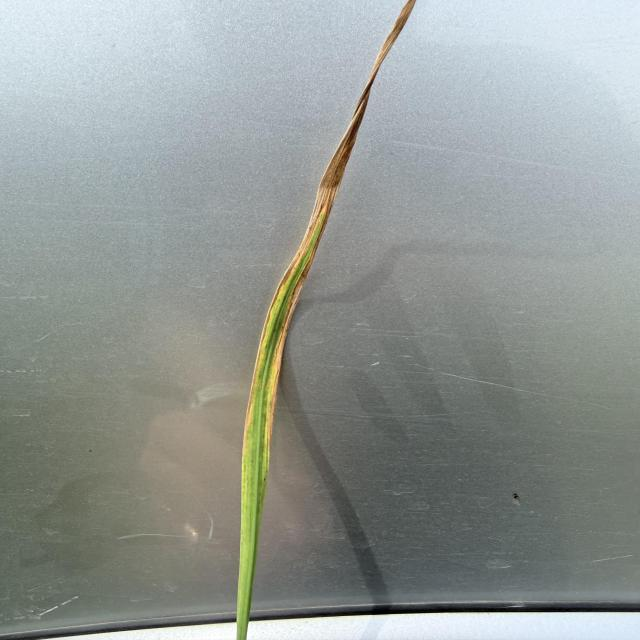Chay bia la: (242, 0, 415, 471)
